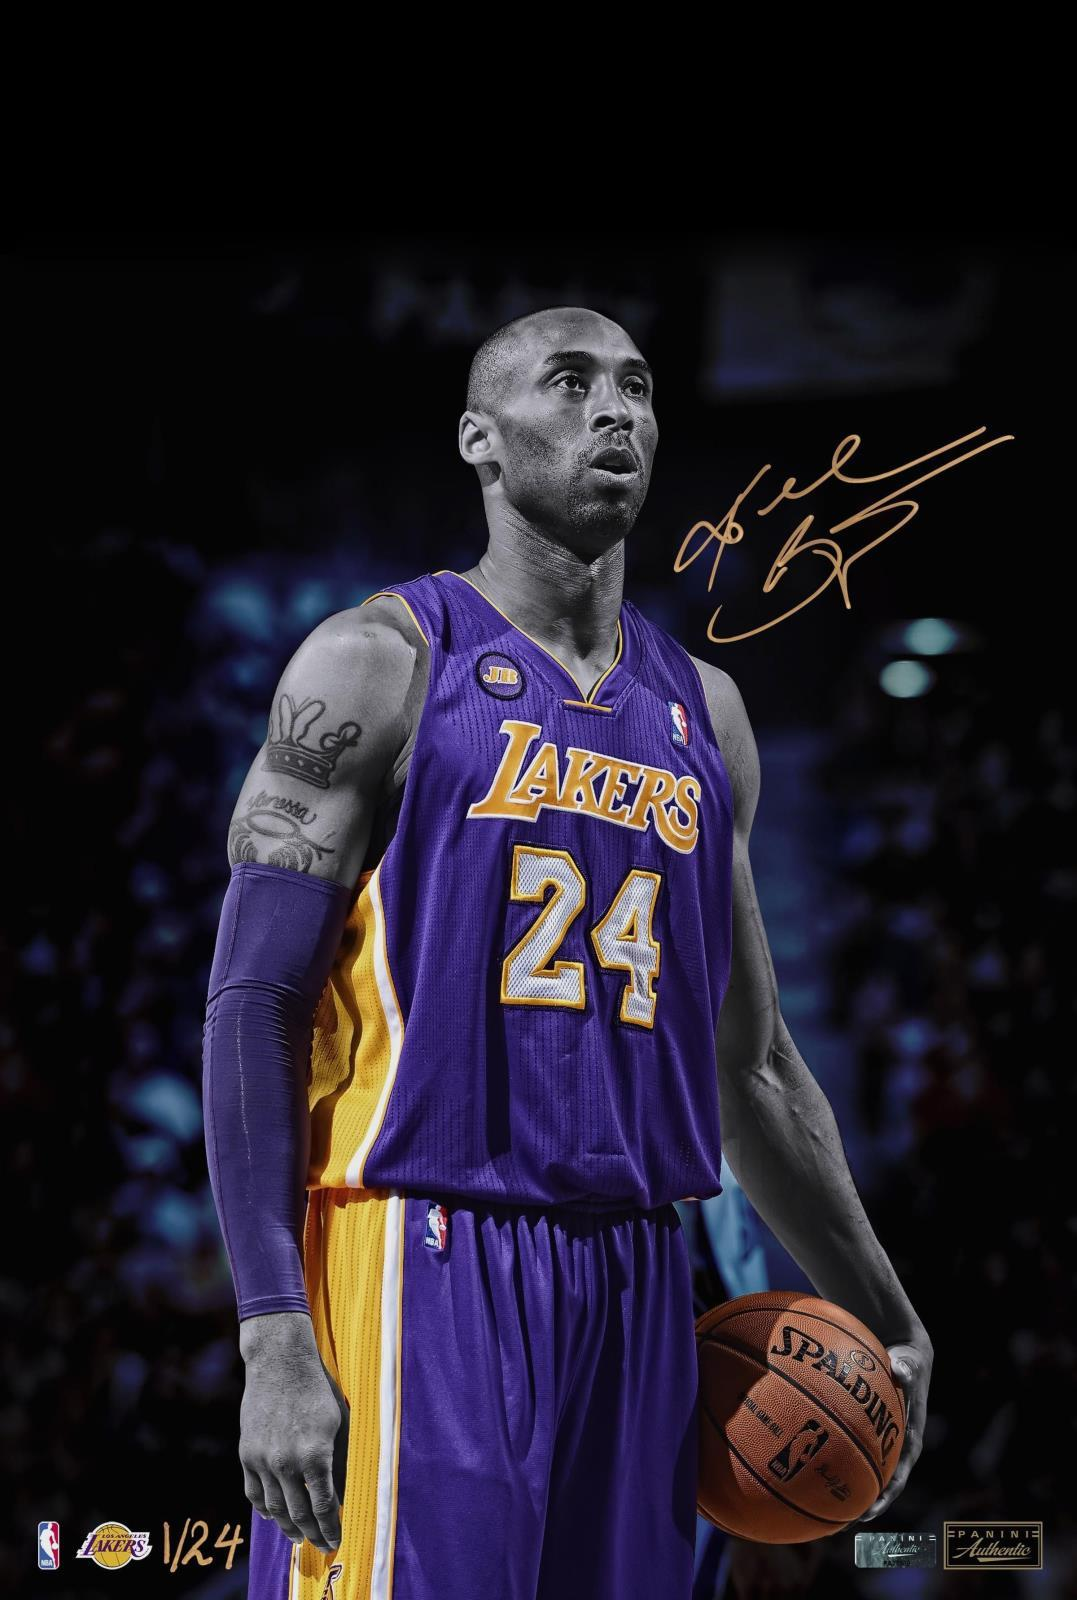ball: (673, 1289, 909, 1544)
